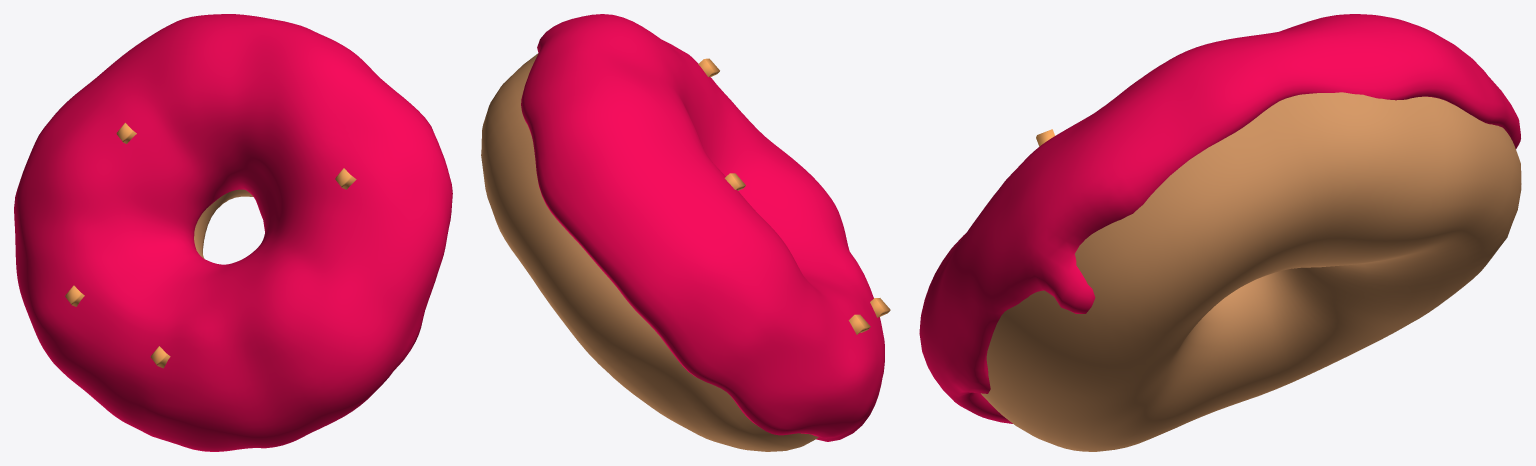
The model's file is Donut.fbx.
3 renders of one model, left to right at view 1: azimuth 30°, elevation 25°; view 2: azimuth 150°, elevation 25°; view 3: azimuth 270°, elevation 25°, orthographic. The views are drawn at different scales.
Parts seen in each view (by area): view 1: Icing, Donut; view 2: Icing, Donut; view 3: Donut, Icing.
Part boxes in pixels (bbox=[...]): Icing: bbox=[14, 14, 452, 451]; Donut: bbox=[194, 189, 253, 258]; Icing: bbox=[521, 14, 884, 441]; Donut: bbox=[481, 53, 818, 451]; Donut: bbox=[981, 92, 1521, 451]; Icing: bbox=[919, 14, 1520, 423].
Size of the model in its own units: 8.5 by 8.22 by 9.53.
